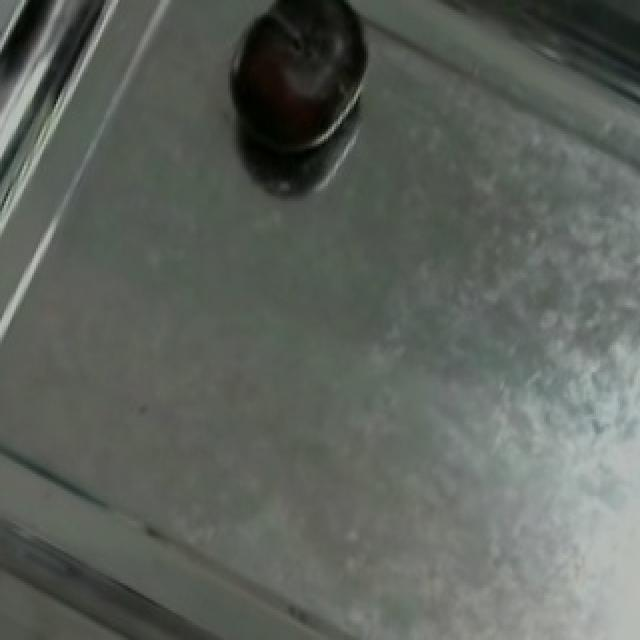Fruit: (214, 0, 388, 176)
